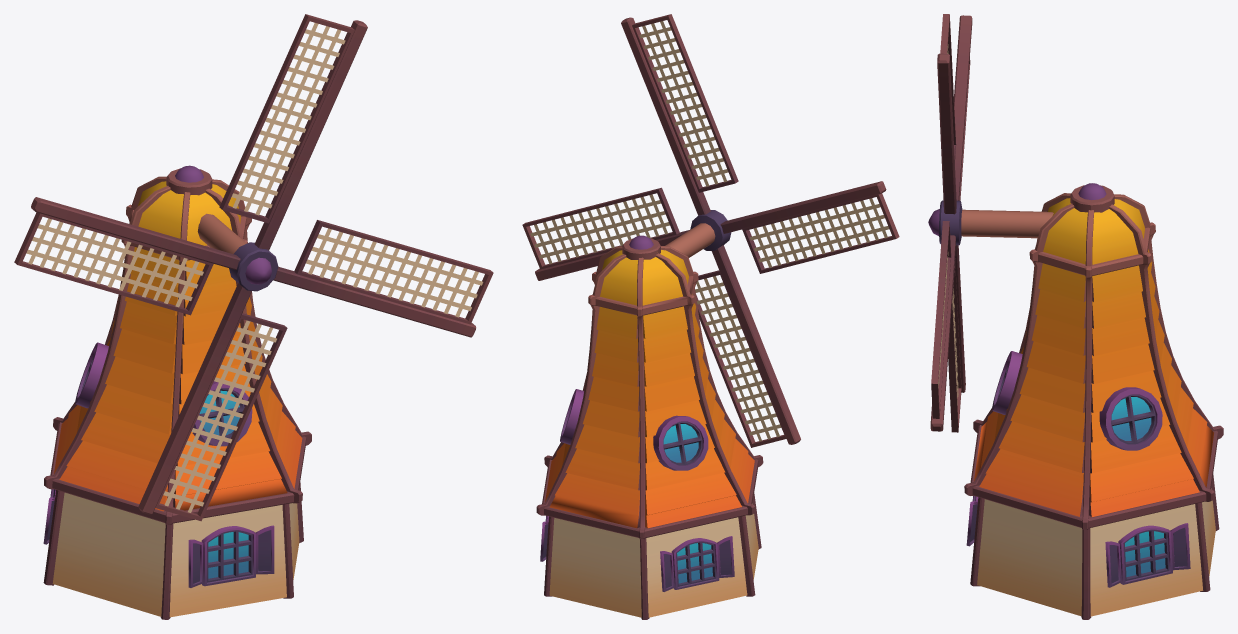
Rendered from moli.obj.
3 renders of one model, left to right at view 1: azimuth 30°, elevation 25°; view 2: azimuth 150°, elevation 25°; view 3: azimuth 270°, elevation 25°, orthographic. The views are drawn at different scales.
Parts seen in each view (by area): view 1: Windmill.003; view 2: Windmill.003; view 3: Windmill.003.
Boxes of the visible parts, x1,y1,x2,y2 form: Windmill.003: (14,14,493,619); Windmill.003: (522,14,899,619); Windmill.003: (928,14,1223,619).
Bounding box in the file's own units: 5.35 × 6.61 × 3.08.
1 material, 1 textured.
